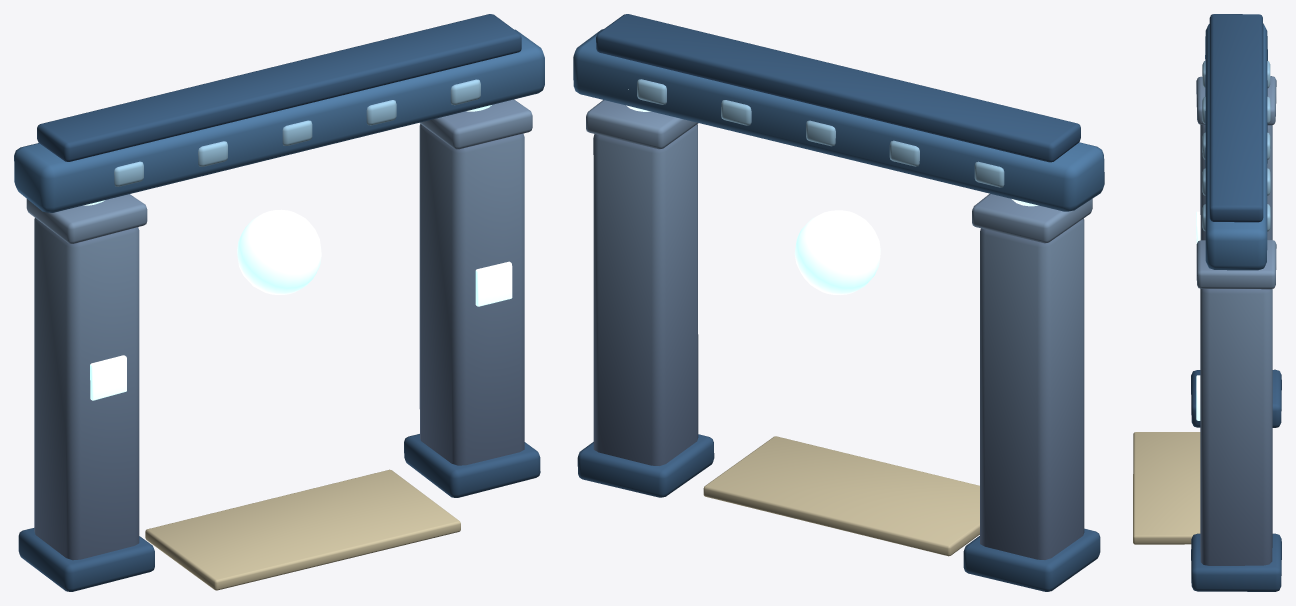
3 renders of one model, left to right at view 1: azimuth 30°, elevation 25°; view 2: azimuth 150°, elevation 25°; view 3: azimuth 270°, elevation 25°, orthographic. The views are drawn at different scales.
Parts seen in each view (by area): view 1: gate_84f1692e; view 2: gate_84f1692e; view 3: gate_84f1692e.
Boxes of the visible parts, x1,y1,x2,y2 form: gate_84f1692e: (14, 14, 544, 591); gate_84f1692e: (573, 14, 1104, 591); gate_84f1692e: (1133, 14, 1281, 591).
Bounding box in the file's own units: 4.91 × 4.1 × 1.44.
